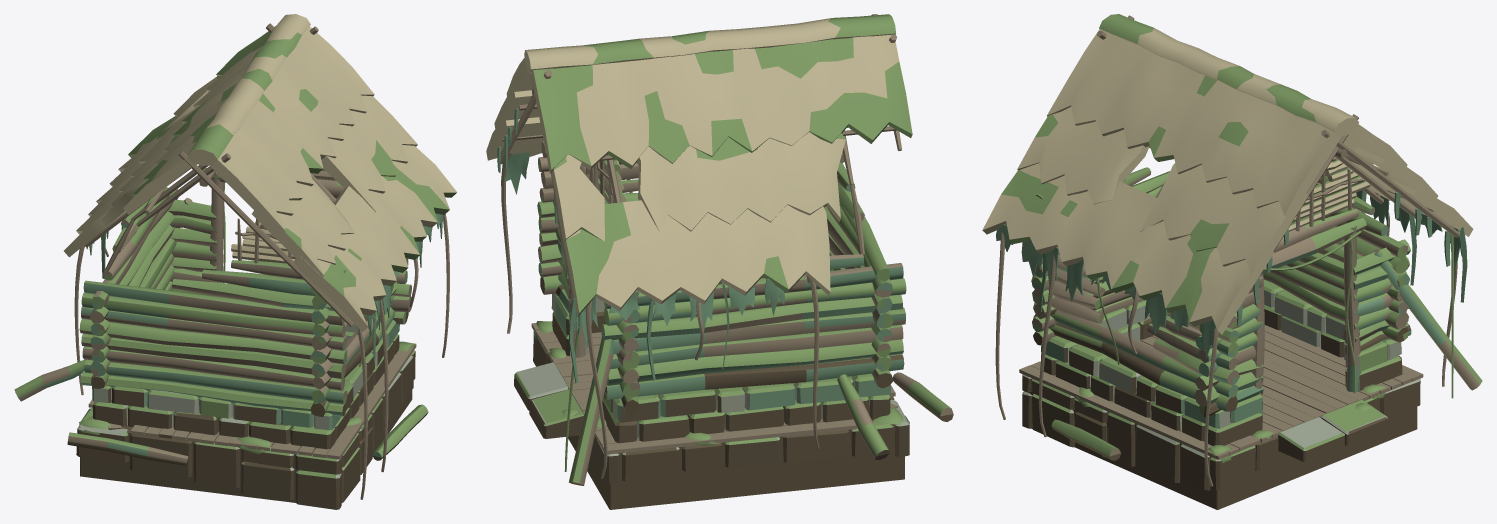
Rendered from ChozaExterior.glb.
The picture shows the model from 3 angles, left to right: view 1: azimuth 30°, elevation 25°; view 2: azimuth 150°, elevation 25°; view 3: azimuth 270°, elevation 25°; orthographic projection. The views are drawn at different scales.
Parts seen in each view (by area): view 1: ChozaParedes, ChozaTecho, ChozaBase, ChozaAlgas; view 2: ChozaTecho, ChozaParedes, ChozaBase, ChozaAlgas; view 3: ChozaTecho, ChozaParedes, ChozaBase, ChozaAlgas.
Boxes of the visible parts, box(x1,y1,x2,y2) form: ChozaParedes: box(14, 168, 428, 465); ChozaTecho: box(64, 14, 457, 331); ChozaBase: box(76, 330, 416, 509); ChozaAlgas: box(74, 182, 449, 499); ChozaTecho: box(486, 14, 912, 316); ChozaParedes: box(537, 141, 953, 485); ChozaBase: box(514, 321, 909, 509); ChozaAlgas: box(497, 108, 819, 478); ChozaTecho: box(982, 14, 1473, 334); ChozaParedes: box(1031, 167, 1482, 460); ChozaBase: box(1019, 325, 1423, 509); ChozaAlgas: box(995, 190, 1467, 486).
Bounding box in the file's own units: 10.49 × 8.83 × 10.95.
